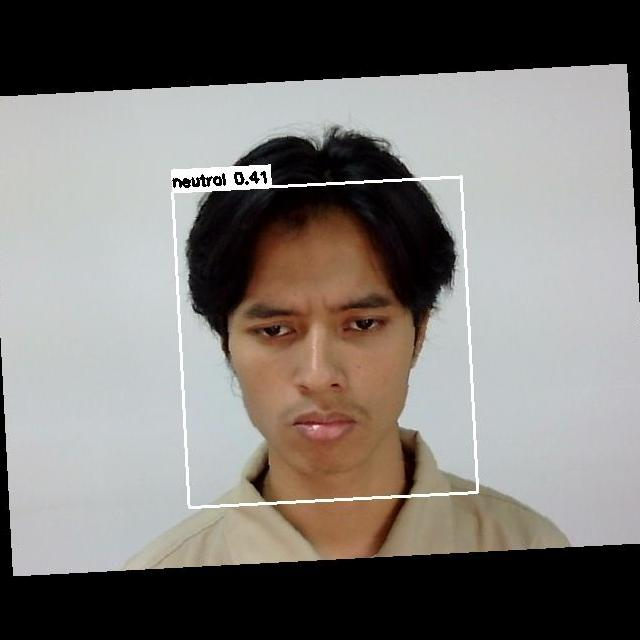Sad: (213, 264, 439, 466)
